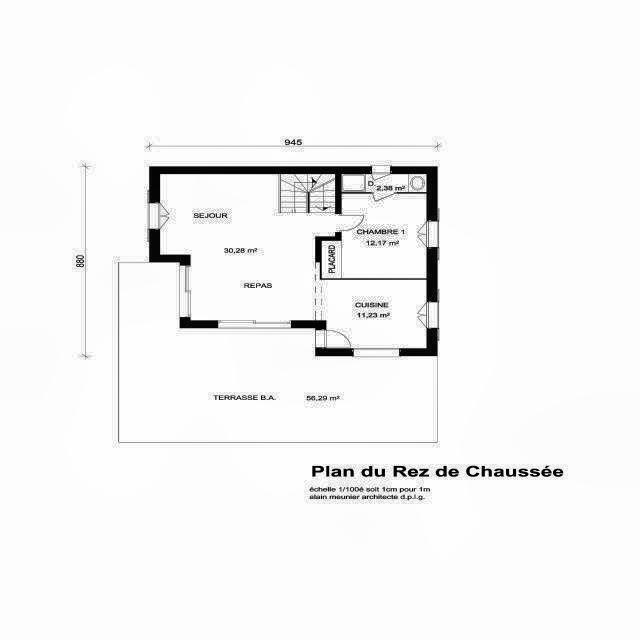room: (160, 174, 427, 348), (322, 194, 427, 278), (281, 174, 335, 213), (341, 174, 426, 192)
